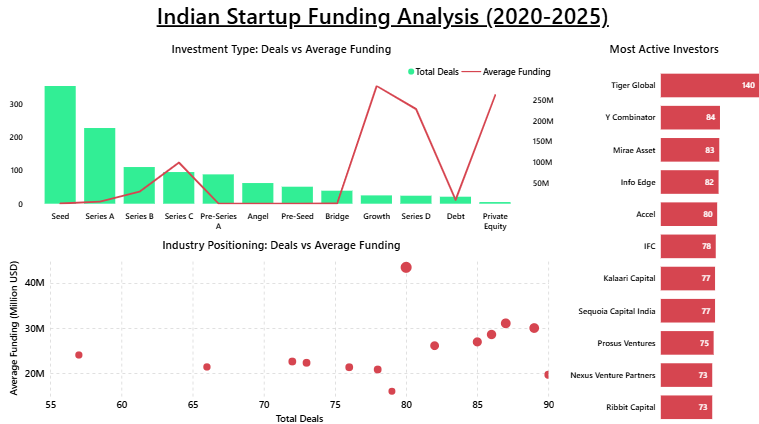

Layout of this report page (visuals, bound fields, positions):
{"tool":"powerbi","page":{"name":"Detailed Analysis","canvas":[1280,720],"ordinal":1},"visuals":[{"type":"textbox","box":[212.1,0,855.7,60],"z":0},{"type":"scatterChart","title":"Industry Positioning: Deals vs Average Funding","fields":{"X":["startup_funding.Total Deals"],"Y":["startup_funding.Average Funding"],"Category":["startup_funding.Industry"],"Size":["startup_funding.Total Funding"]},"box":[16.2,395.3,908.1,313],"z":1000},{"type":"lineClusteredColumnComboChart","title":"Investment Type: Deals vs Average Funding","fields":{"Category":["startup_funding.InvestmentType"],"Y2":["startup_funding.Average Funding"],"Y":["startup_funding.Total Deals"]},"box":[16.2,67.6,908.1,318.9],"z":2000},{"type":"clusteredBarChart","title":"Most Active Investors ","fields":{"Category":["investor_participation.Investors"],"Y":["investor_participation.Investor Participation Count"]},"box":[949.2,67.6,317.4,652.4],"z":3000}]}

Visuals, with their boxes in screenshot pixels (x1, y1, x2, y2), scaled from the page's 1280x720 canvas onto the 759x424 screenshot:
textbox: bbox=[126, 0, 633, 35]
"Industry Positioning: Deals vs Average Funding" scatterChart: bbox=[10, 233, 548, 417]
"Investment Type: Deals vs Average Funding" lineClusteredColumnComboChart: bbox=[10, 40, 548, 228]
"Most Active Investors " clusteredBarChart: bbox=[563, 40, 751, 423]
